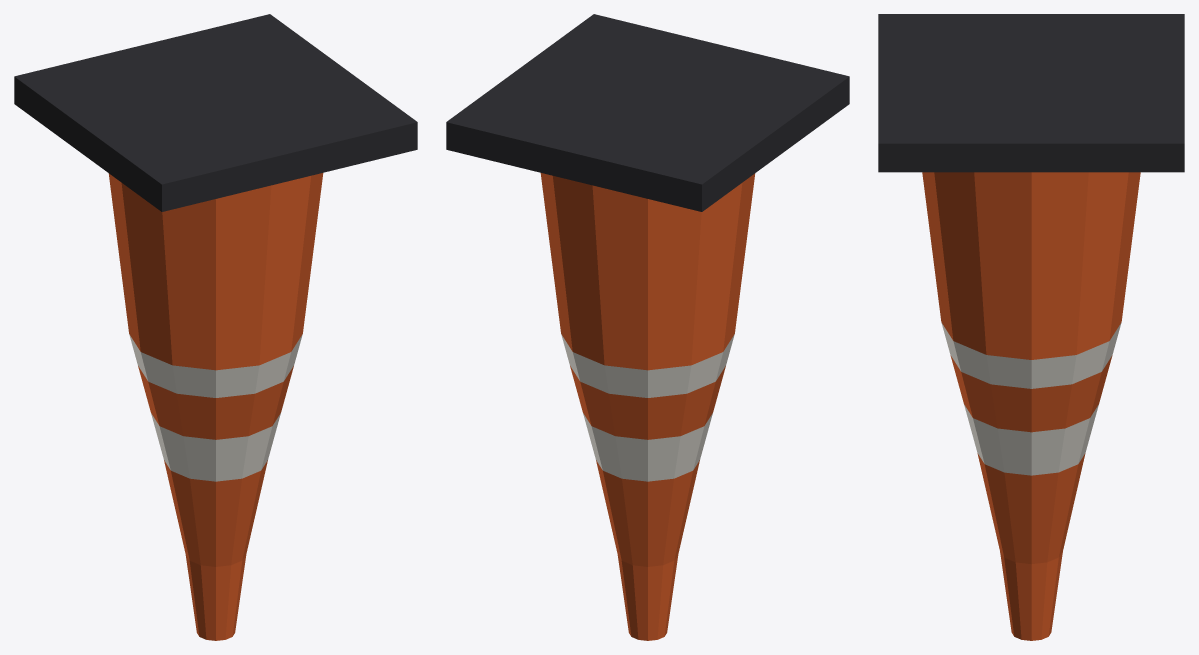
The picture shows the model from 3 angles, left to right: view 1: azimuth 30°, elevation 25°; view 2: azimuth 150°, elevation 25°; view 3: azimuth 270°, elevation 25°; orthographic projection. The views are drawn at different scales.
Parts seen in each view (by area): view 1: cone; view 2: cone; view 3: cone.
Boxes of the visible parts, x1,y1,x2,y2 form: cone: (14,14,417,640); cone: (446,14,849,640); cone: (878,14,1184,640).
Bounding box in the file's own units: 0.34 × 0.6775 × 0.34.
